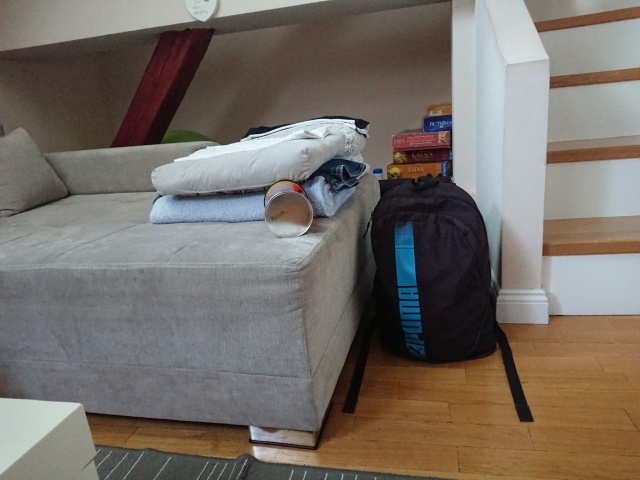Nescafe Classic 225g: (261, 177, 316, 241)
